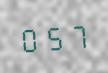five: (42, 20, 64, 52)
seven: (65, 19, 87, 50)
zero: (18, 22, 40, 53)
